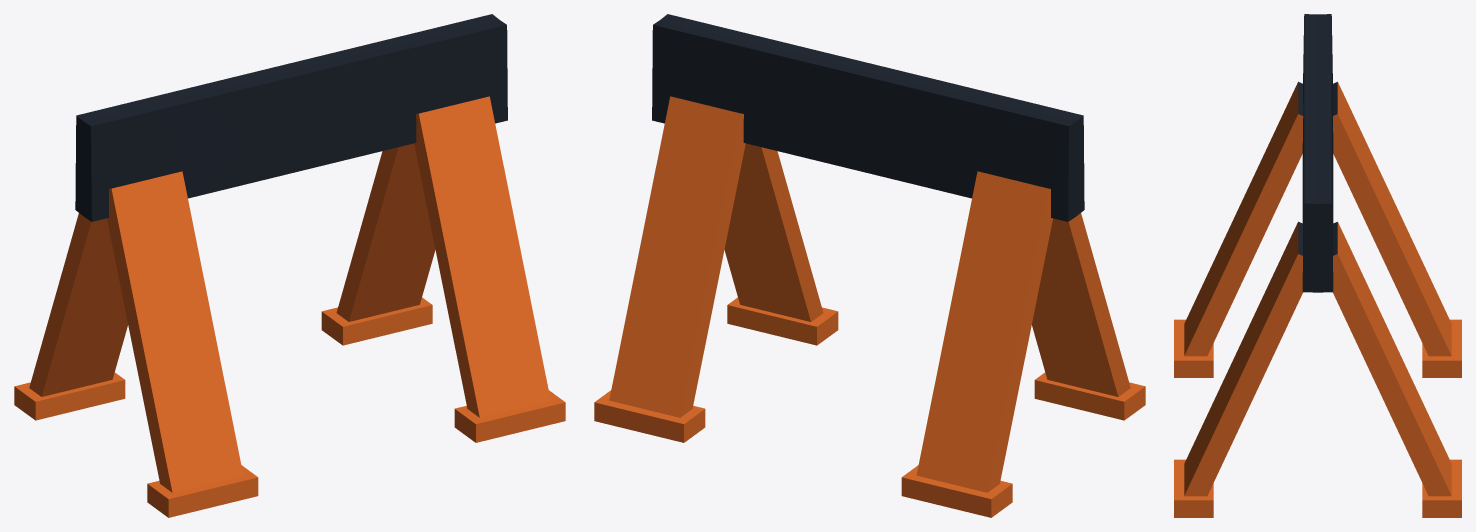
Rendered from col_engel1.fbx.
3 views of the same model, side by side, from view 1: azimuth 30°, elevation 25°; view 2: azimuth 150°, elevation 25°; view 3: azimuth 270°, elevation 25° (orthographic). The views are drawn at different scales.
Visible parts, largest first — view 1: Plane; view 2: Plane; view 3: Plane.
Part boxes in pixels (x1,y1,x2,y2): Plane: (14,14,565,517); Plane: (594,14,1145,517); Plane: (1174,14,1461,517).
Size of the model in its own units: 609 by 479 by 391.
